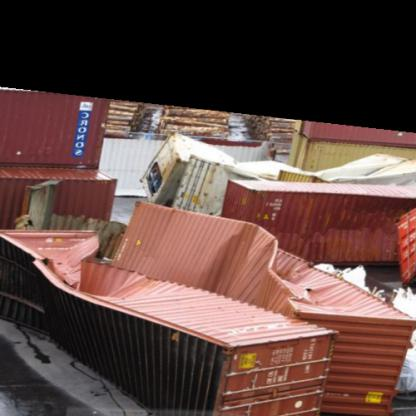Damage: (210, 210, 415, 364), (148, 134, 415, 200), (0, 226, 118, 332)
